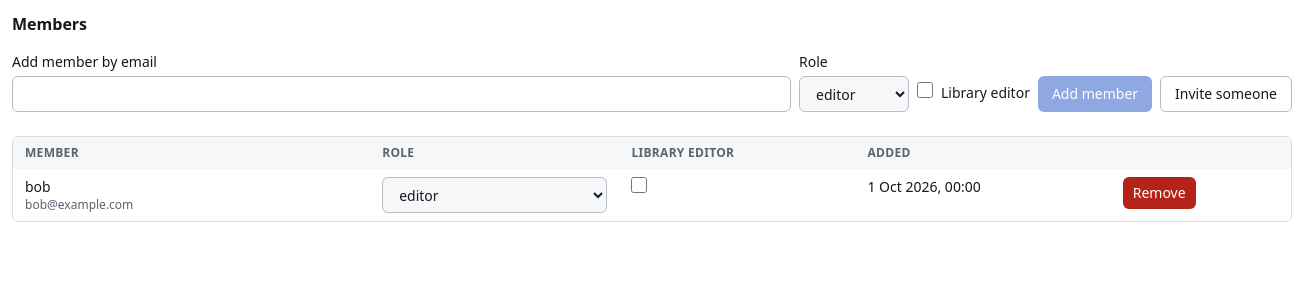
Test case: MembersPanel library editor › rolls the toggle back when the server fails
Click the checkbox named "Library editor bob@example.com".
click(639, 185)  # box [631,177,647,193]
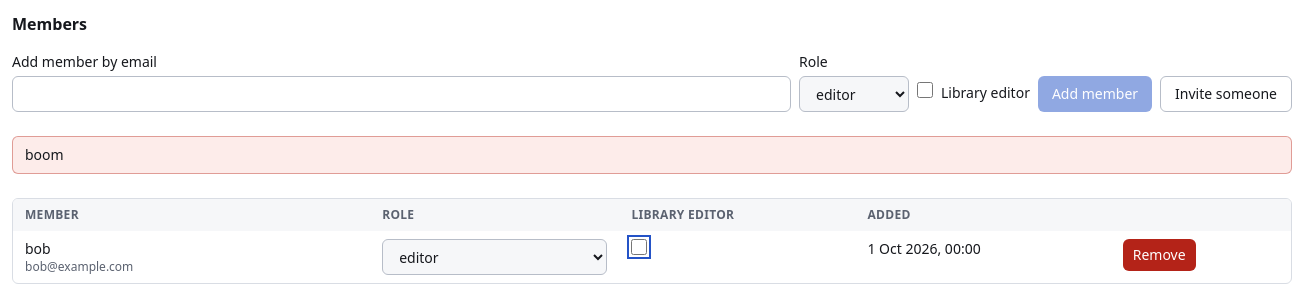
Check: the text "boom" is shown, box [25,145,64,164]
